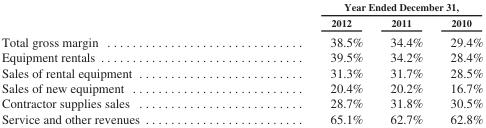table: (0, 0, 482, 125)
table column: (0, 0, 234, 125), (234, 0, 376, 125), (376, 0, 436, 125), (436, 0, 482, 125)
table column header: (0, 0, 482, 31)
table row: (0, 31, 482, 49), (0, 14, 482, 31), (0, 79, 482, 95), (0, 49, 482, 64), (0, 64, 482, 79), (0, 95, 482, 110), (0, 110, 482, 125), (0, 0, 482, 14)
table spanning cell: (234, 0, 482, 14)
